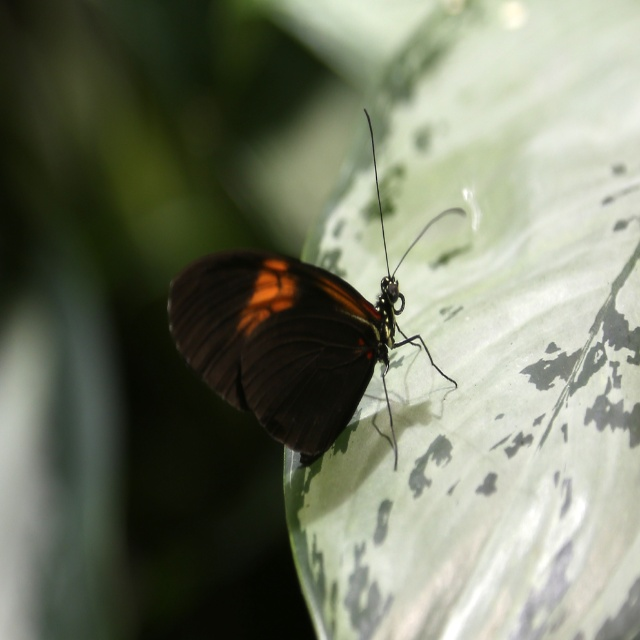Butterfly: (174, 98, 467, 485)
